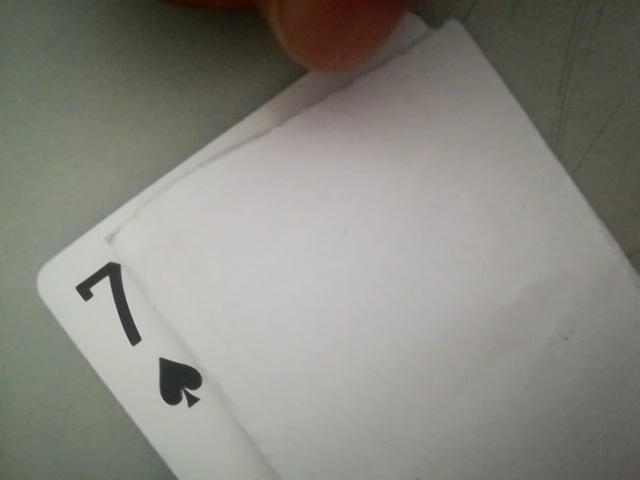ht 7: (64, 238, 205, 425)
